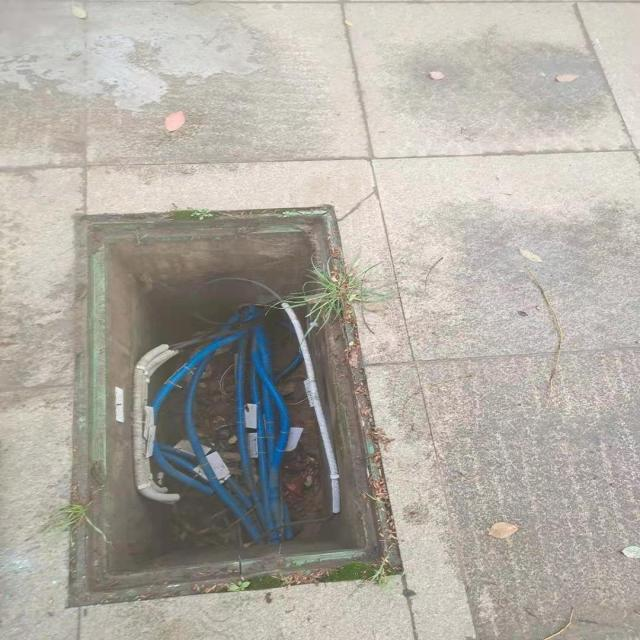Faulty: (64, 205, 394, 588)
